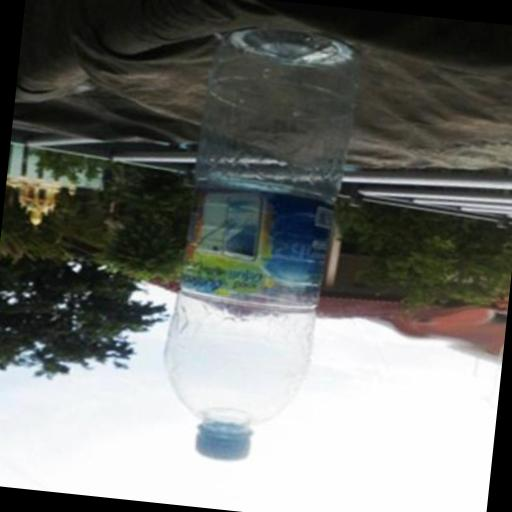Coca: (138, 12, 384, 478)
